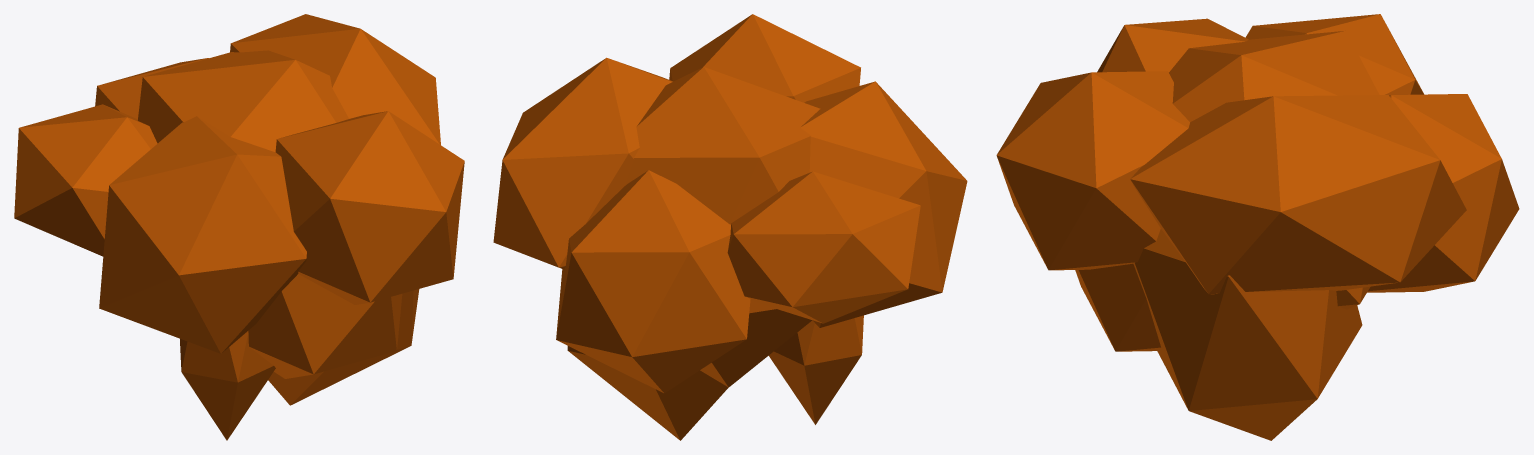
The model's file is Island10xBottom.glb.
3 views of the same model, side by side, from view 1: azimuth 30°, elevation 25°; view 2: azimuth 150°, elevation 25°; view 3: azimuth 270°, elevation 25° (orthographic). The views are drawn at different scales.
Visible parts, largest first — view 1: Island10xBottom; view 2: Island10xBottom; view 3: Island10xBottom.
Part boxes in pixels (bbox=[...]): Island10xBottom: bbox=[14, 14, 464, 440]; Island10xBottom: bbox=[493, 14, 967, 440]; Island10xBottom: bbox=[996, 14, 1519, 440].
Bounding box in the file's own units: 7.84 × 6.73 × 8.35.
